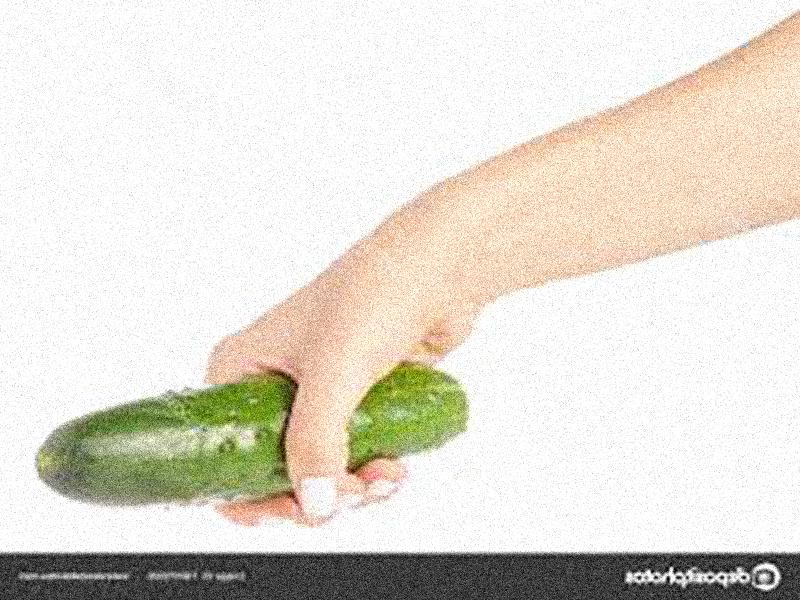Cucumber: (31, 366, 466, 507)
